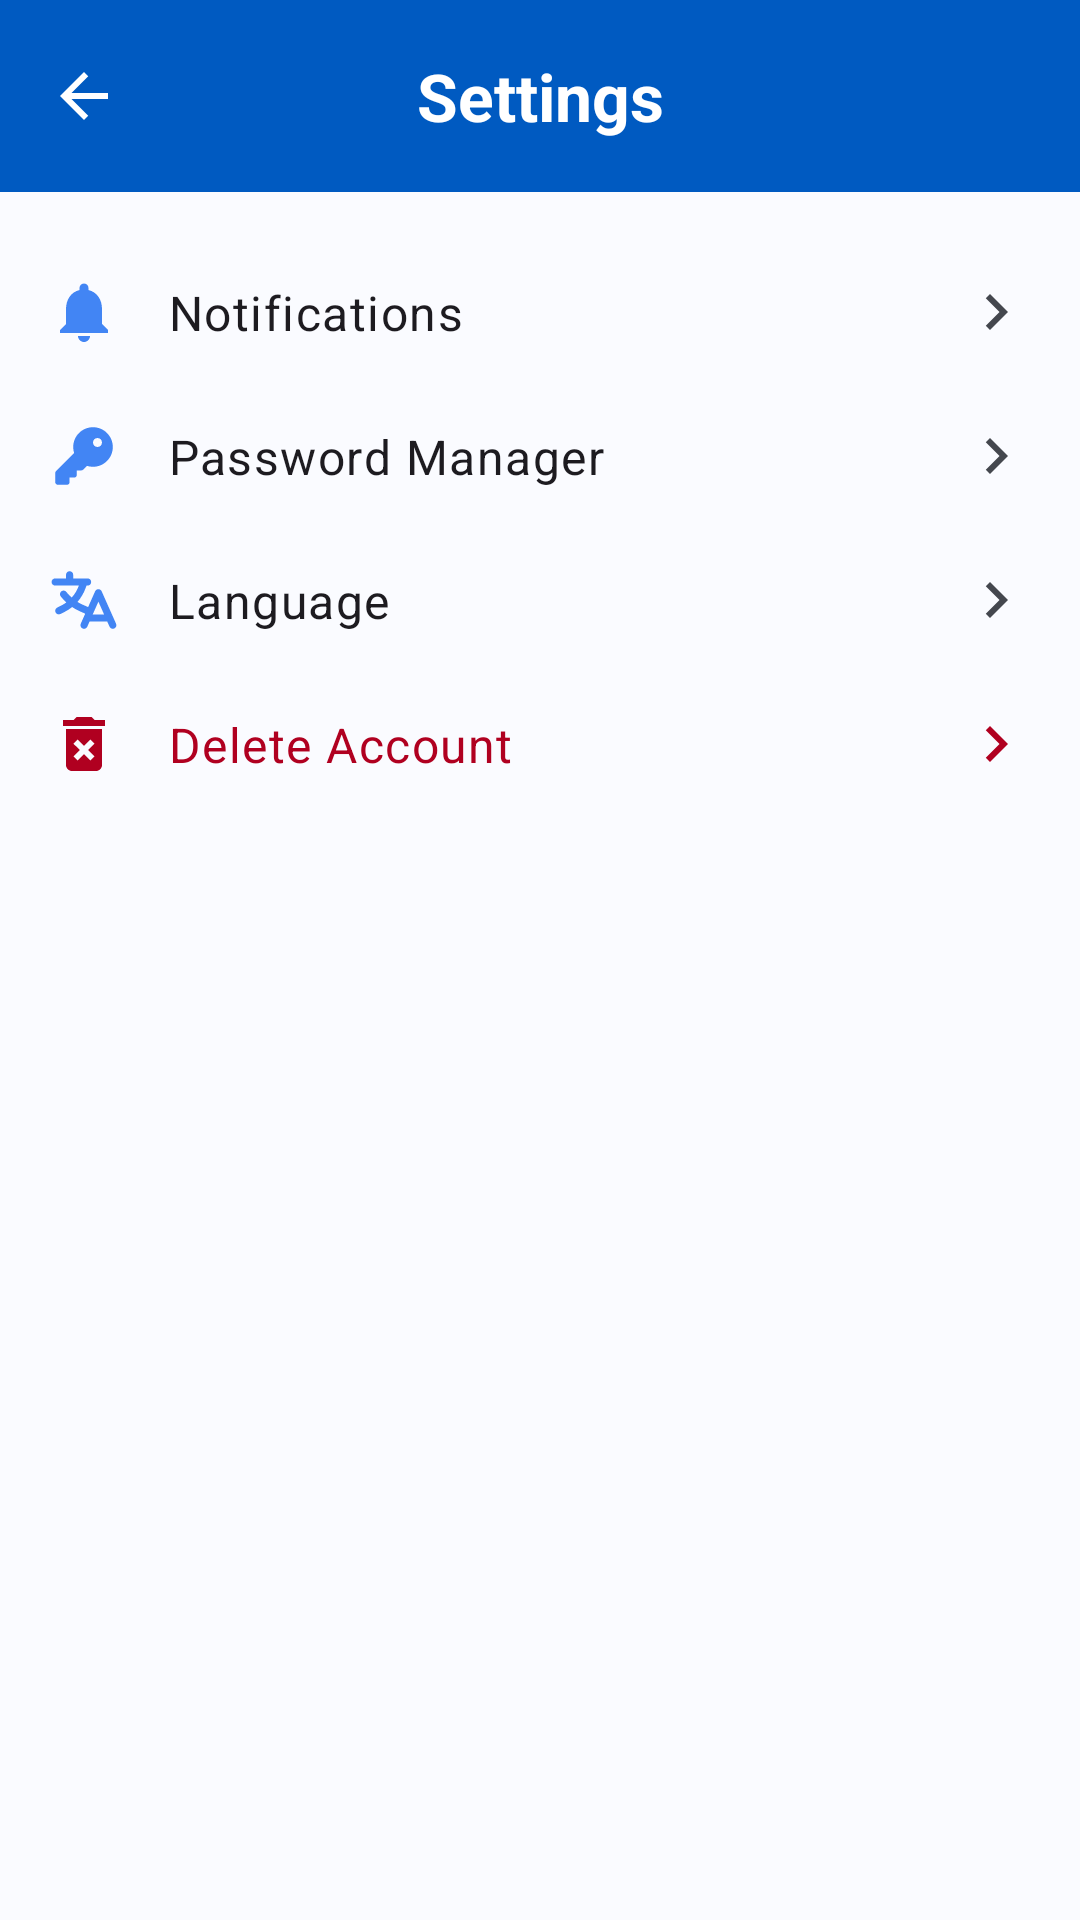

Screen size 1080px x 1920px. Icon name, then its center in pixels as [x,y]:
bell: [84,312]
chevron right: [997,312], [997,456], [997,600], [997,744]
delete forever: [84,744]
key: [84,456]
